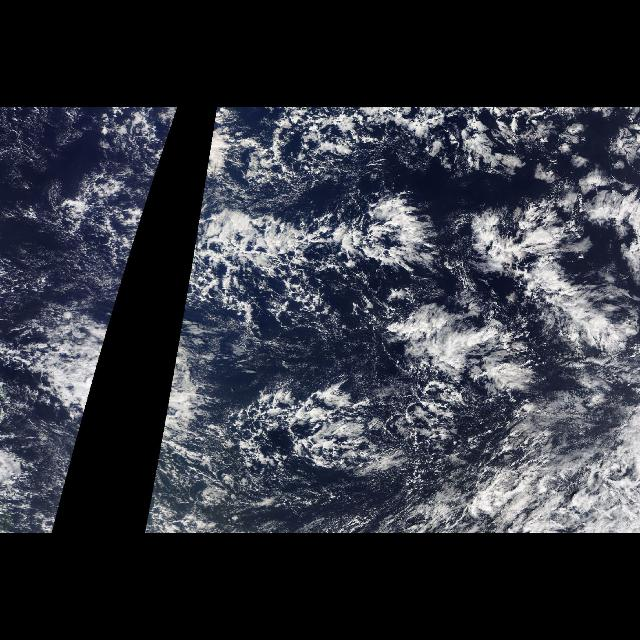Fish: (442, 188, 612, 350), (187, 207, 433, 291), (74, 207, 146, 291)
Gravel: (144, 107, 480, 523), (59, 108, 180, 508)
